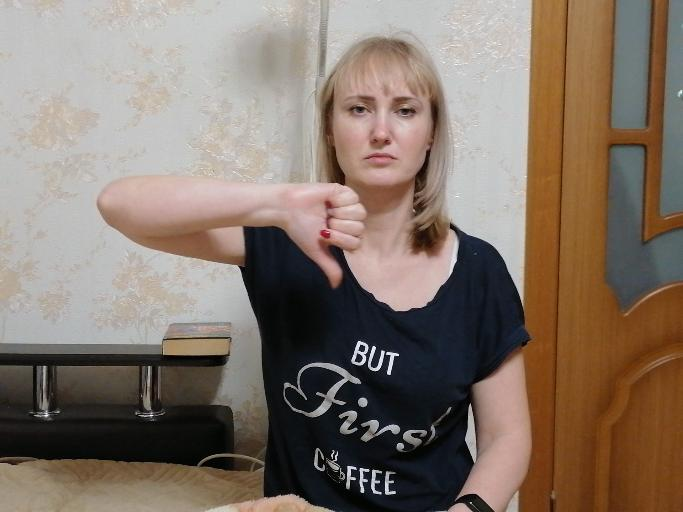dislike: (281, 179, 369, 290)
